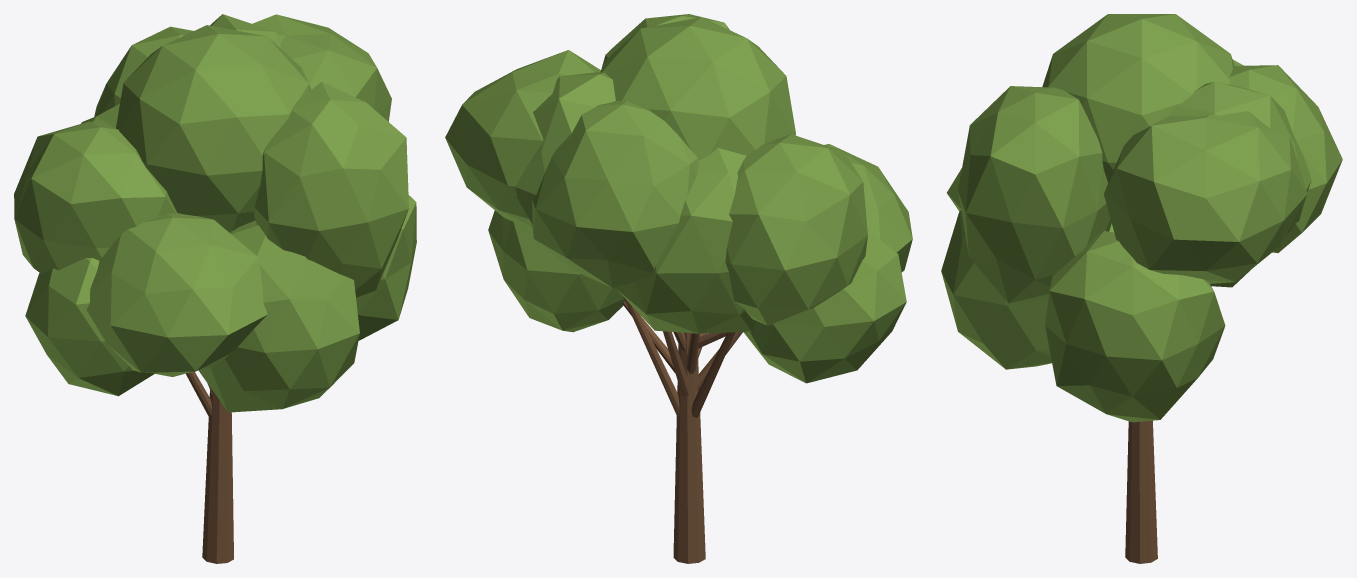
File: deciduous-2.glb
3 renders of one model, left to right at view 1: azimuth 30°, elevation 25°; view 2: azimuth 150°, elevation 25°; view 3: azimuth 270°, elevation 25°, orthographic. The views are drawn at different scales.
Visible parts, largest first — view 1: deciduous-2; view 2: deciduous-2; view 3: deciduous-2.
Part boxes in pixels (x1,y1,x2,y2): deciduous-2: [14, 14, 416, 563]; deciduous-2: [445, 14, 912, 563]; deciduous-2: [941, 14, 1342, 563].
Size of the model in its own units: 5.21 by 6.75 by 4.57.
